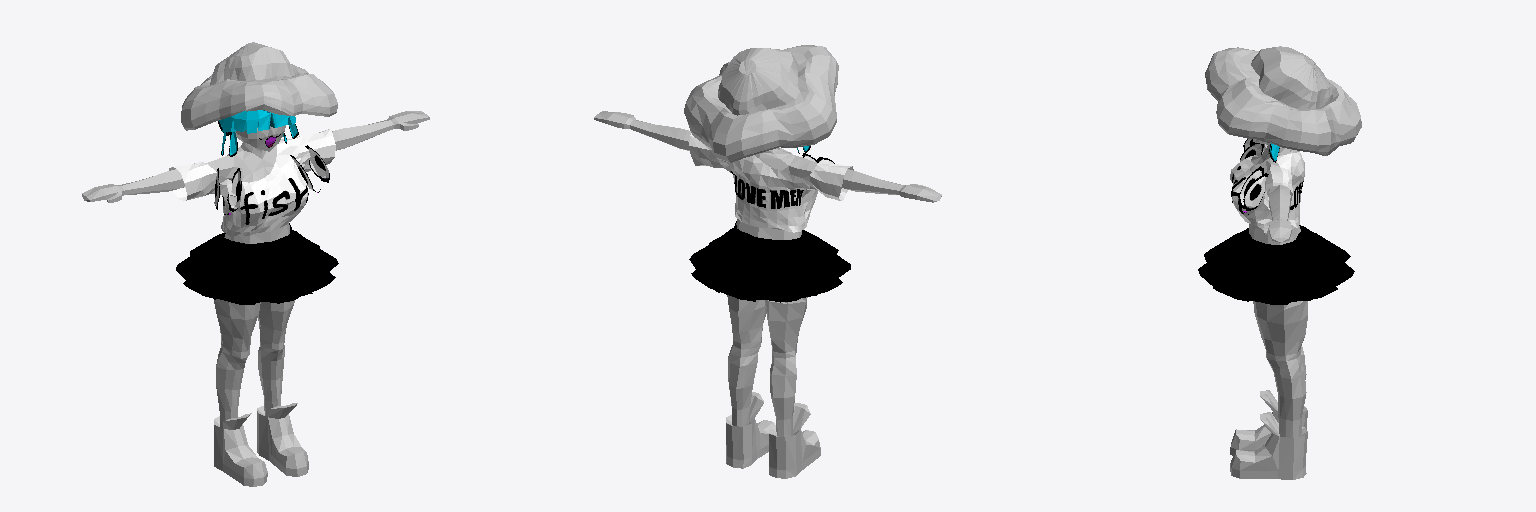
3 renders of one model, left to right at view 1: azimuth 30°, elevation 25°; view 2: azimuth 150°, elevation 25°; view 3: azimuth 270°, elevation 25°, orthographic.
Visible parts, largest first — view 1: Body, skirt_sharp, hat, Shirt, shoes, hair_ears, hair, Head; view 2: hat, Body, skirt_sharp, Shirt, shoes; view 3: hat, skirt_sharp, Body, shoes, Shirt, hair_ears.
Part boxes in pixels (x1,y1,x2,y2): Body: (82, 111, 429, 428); skirt_sharp: (176, 223, 338, 304); hat: (181, 42, 337, 130); Shirt: (169, 129, 335, 235); shoes: (214, 403, 308, 486); hair_ears: (214, 124, 329, 214); hair: (218, 110, 295, 135); Head: (235, 125, 285, 151); hat: (684, 45, 838, 162); Body: (594, 111, 941, 436); skirt_sharp: (689, 221, 850, 302); Shirt: (689, 133, 853, 232); shoes: (726, 392, 820, 478); hat: (1205, 46, 1361, 155); skirt_sharp: (1198, 225, 1354, 304); Body: (1249, 145, 1307, 437); shoes: (1230, 390, 1307, 479); Shirt: (1230, 144, 1304, 229); hair_ears: (1240, 139, 1279, 214).
Size of the model in its own units: 2.35 by 2.7 by 0.9698.
5 materials, 2 textured.